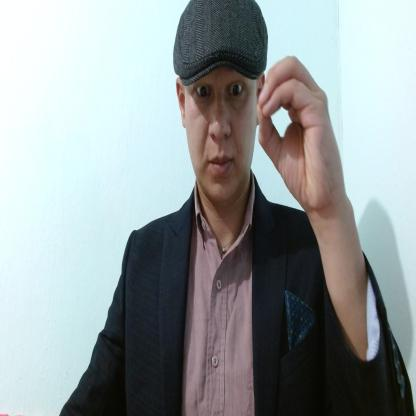O: (257, 52, 342, 211)
